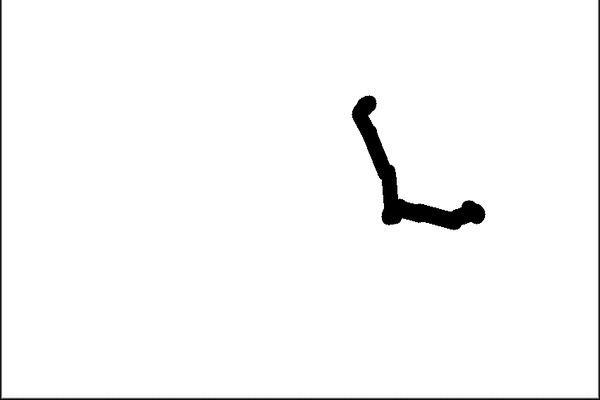L: (348, 88, 492, 233)
